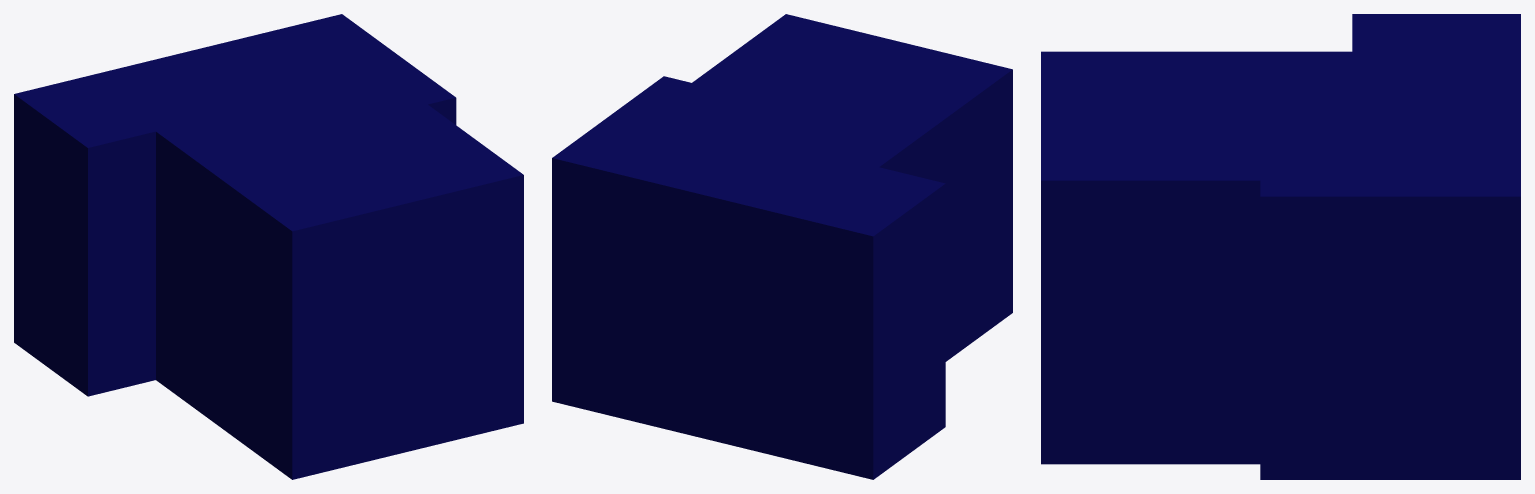
Rendered from zatana_terra_base_vis_75.dae.
The picture shows the model from 3 angles, left to right: view 1: azimuth 30°, elevation 25°; view 2: azimuth 150°, elevation 25°; view 3: azimuth 270°, elevation 25°; orthographic projection. The views are drawn at different scales.
Visible parts, largest first — view 1: Node_000002318374BEC0; view 2: Node_000002318374BEC0; view 3: Node_000002318374BEC0.
Part boxes in pixels (bbox=[...]): Node_000002318374BEC0: bbox=[14, 14, 523, 479]; Node_000002318374BEC0: bbox=[552, 14, 1012, 479]; Node_000002318374BEC0: bbox=[1041, 14, 1520, 479].
Bounding box in the file's own units: 0.029 × 0.0215 × 0.0322.
